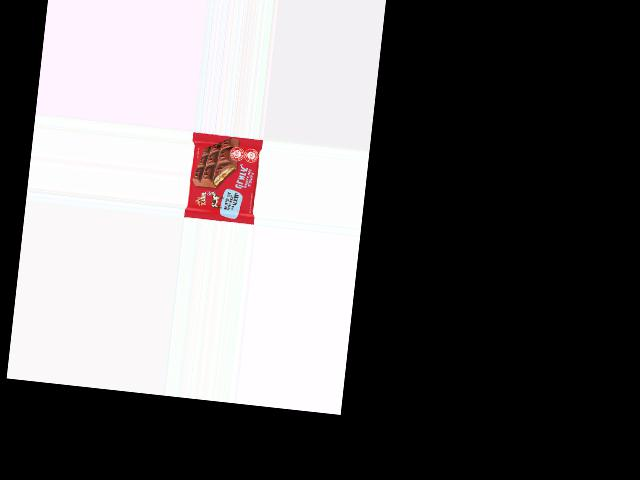chocolate: (185, 133, 263, 222)
